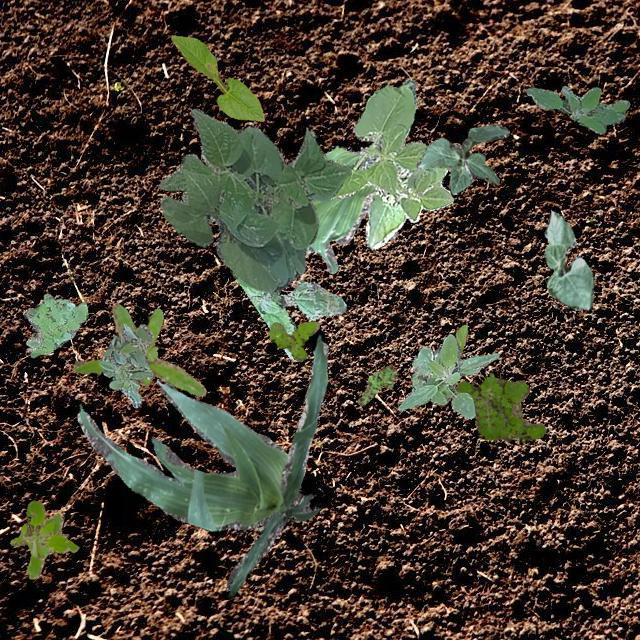crop: (76, 334, 328, 594), (156, 108, 350, 292), (310, 78, 452, 248), (304, 144, 396, 272), (397, 333, 498, 418), (170, 34, 262, 120), (416, 122, 508, 194), (542, 210, 592, 308), (454, 324, 466, 351)
weed: (72, 302, 205, 396), (234, 276, 346, 358), (454, 372, 546, 442), (8, 500, 78, 578), (526, 84, 628, 132), (98, 322, 152, 407), (24, 293, 86, 357), (268, 320, 318, 360), (356, 364, 396, 404)
